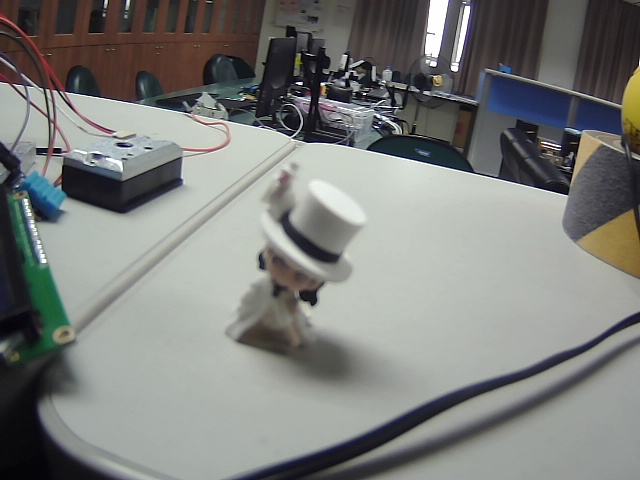lucci: (233, 154, 372, 369)
